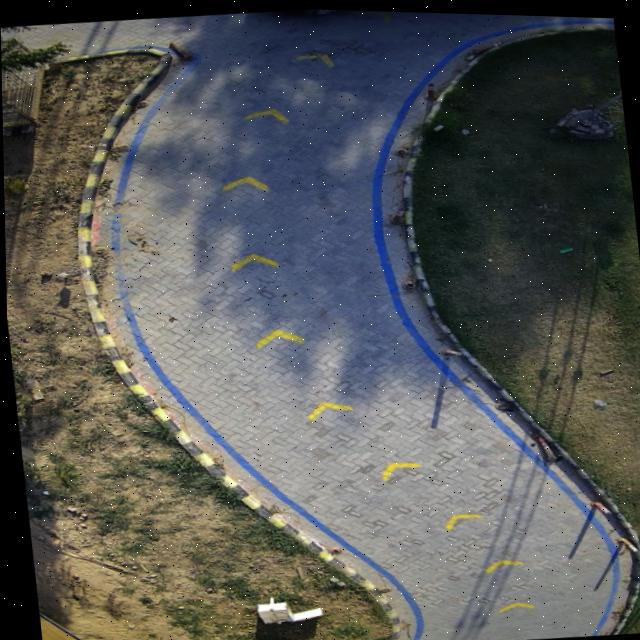No Car: (0, 7, 640, 640)
